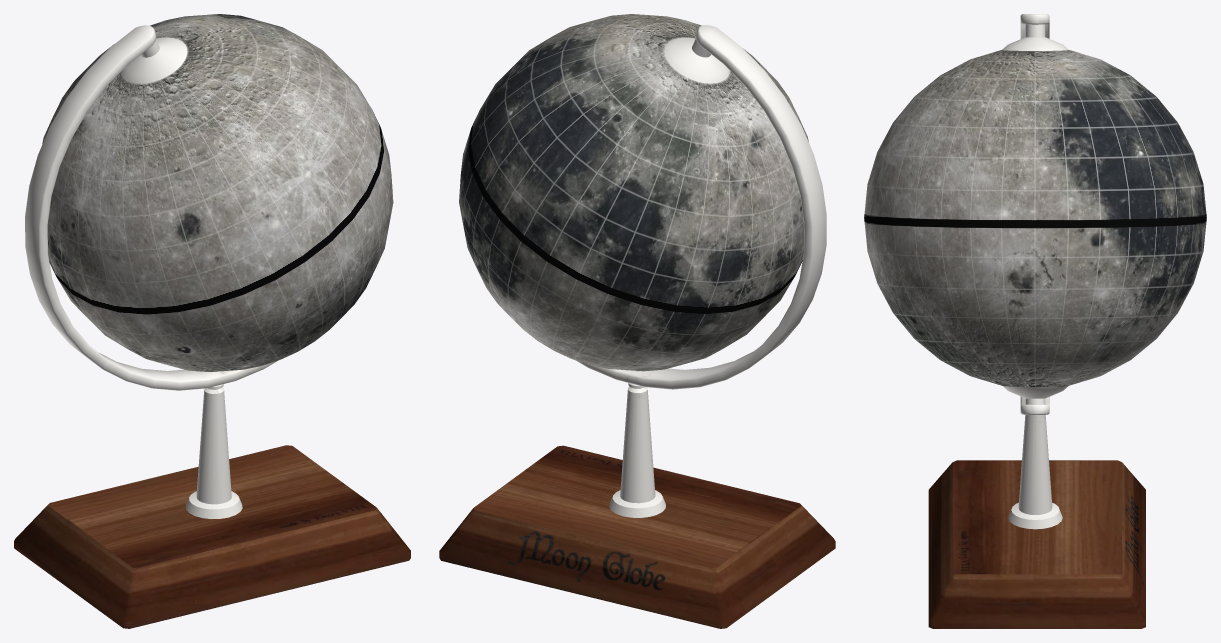
Rendered from sf-moon-globe.glb.
3 renders of one model, left to right at view 1: azimuth 30°, elevation 25°; view 2: azimuth 150°, elevation 25°; view 3: azimuth 270°, elevation 25°, orthographic. The views are drawn at different scales.
Parts seen in each view (by area): view 1: sphere_M_sphere_0, jointedBreakable_main_M_holder_0; view 2: sphere_M_sphere_0, jointedBreakable_main_M_holder_0; view 3: sphere_M_sphere_0, jointedBreakable_main_M_holder_0.
Part boxes in pixels (x1,y1,x2,y2): sphere_M_sphere_0: (42,14,393,371); jointedBreakable_main_M_holder_0: (14,25,410,628); sphere_M_sphere_0: (459,14,808,371); jointedBreakable_main_M_holder_0: (439,25,835,628); sphere_M_sphere_0: (864,50,1206,386); jointedBreakable_main_M_holder_0: (928,14,1145,628).
Bounding box in the file's own units: 0.1955 × 0.3 × 0.1798.
2 materials, 2 textured.
